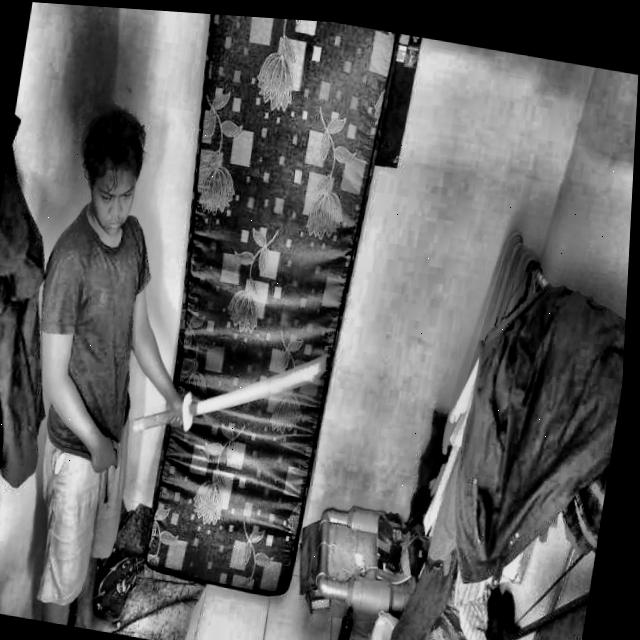pisau: (120, 313, 340, 472)
